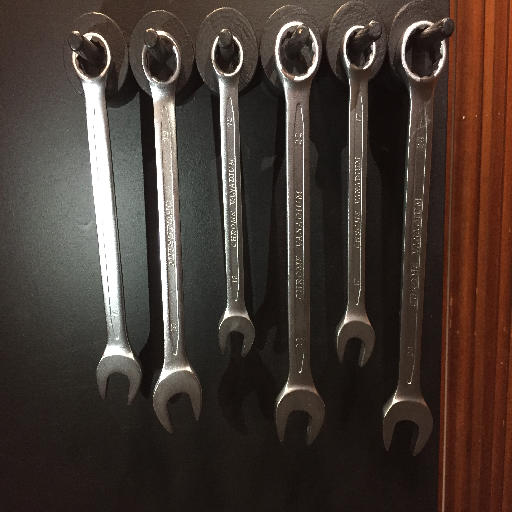bottom: (380, 387, 435, 460), (272, 378, 324, 449), (152, 366, 202, 431), (94, 348, 144, 406), (333, 312, 377, 369), (217, 308, 257, 359)
top: (395, 20, 449, 86), (273, 19, 320, 87), (139, 28, 184, 89), (69, 30, 114, 85), (340, 24, 379, 77), (209, 31, 245, 81)
